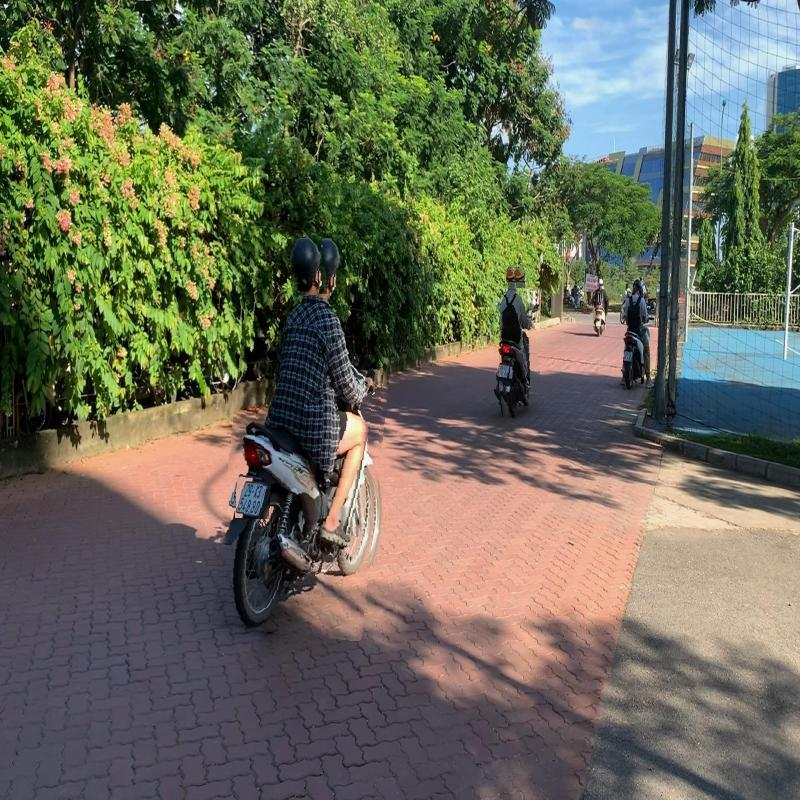helmet: (288, 237, 326, 297), (513, 266, 527, 288)
licenseplate: (236, 478, 270, 519), (497, 363, 510, 381)
motorcyclist: (222, 228, 393, 638), (490, 264, 540, 419)
